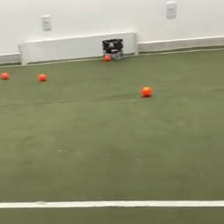ball: (141, 84, 153, 98), (37, 71, 47, 81), (1, 70, 9, 80), (104, 52, 112, 61)
goal: (17, 30, 138, 67)
robot: (101, 38, 126, 60)
